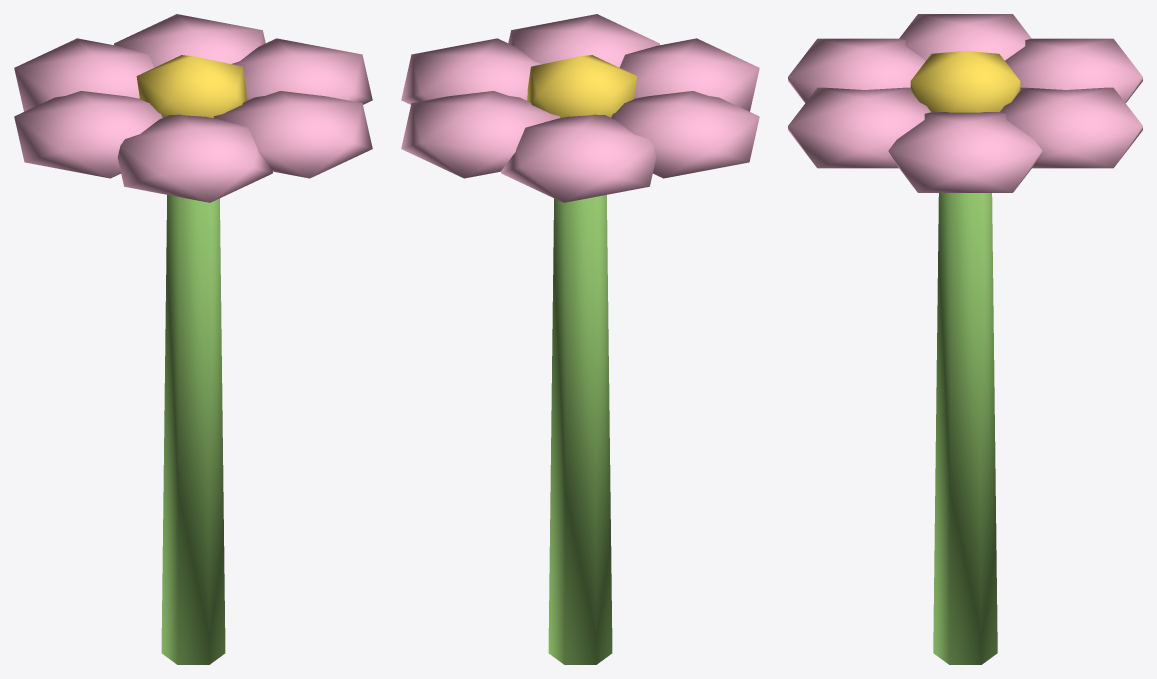
File: Flower_0.fbx
The picture shows the model from 3 angles, left to right: view 1: azimuth 30°, elevation 25°; view 2: azimuth 150°, elevation 25°; view 3: azimuth 270°, elevation 25°; orthographic projection.
Visible parts, largest first — view 1: Flower_0; view 2: Flower_0; view 3: Flower_0.
Boxes of the visible parts, box(x1,y1,x2,y2) form: Flower_0: box(14, 14, 372, 664); Flower_0: box(401, 14, 759, 664); Flower_0: box(788, 14, 1142, 664).
Bounding box in the file's own units: 0.3052 × 0.515 × 0.275.
